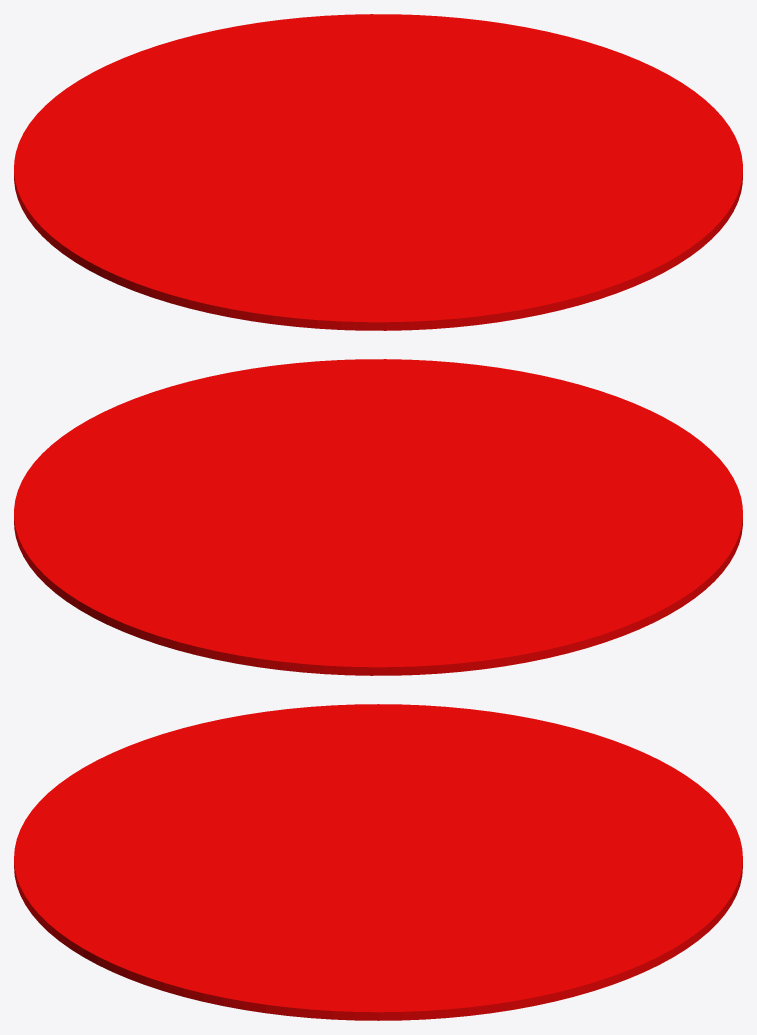
The model's file is base_disc_red.obj.
3 renders of one model, top to bottom at view 1: azimuth 30°, elevation 25°; view 2: azimuth 150°, elevation 25°; view 3: azimuth 270°, elevation 25°, orthographic.
Visible parts, largest first — view 1: Cylinder; view 2: Cylinder; view 3: Cylinder.
Part boxes in pixels (x1,y1,x2,y2): Cylinder: (14,14,742,330); Cylinder: (14,359,742,675); Cylinder: (14,704,742,1020).
Size of the model in its own units: 20 by 0.2602 by 20.
Materials: 1 (1 with a texture image).
